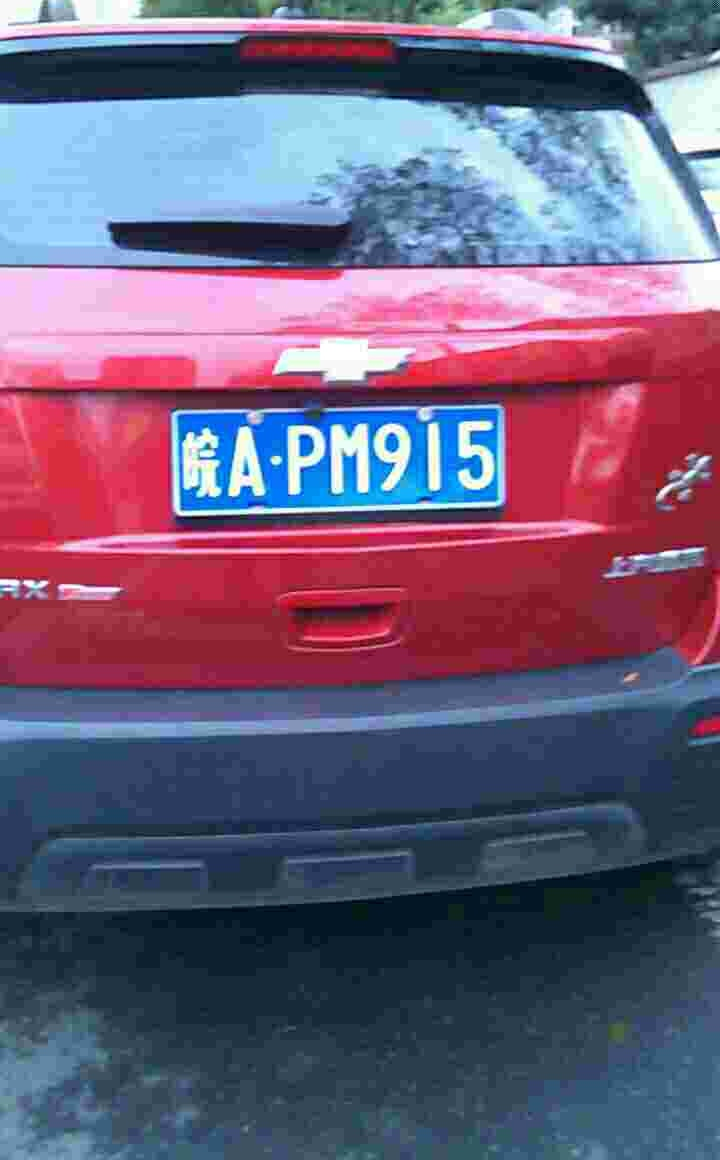license_plate: (178, 405, 507, 520)
